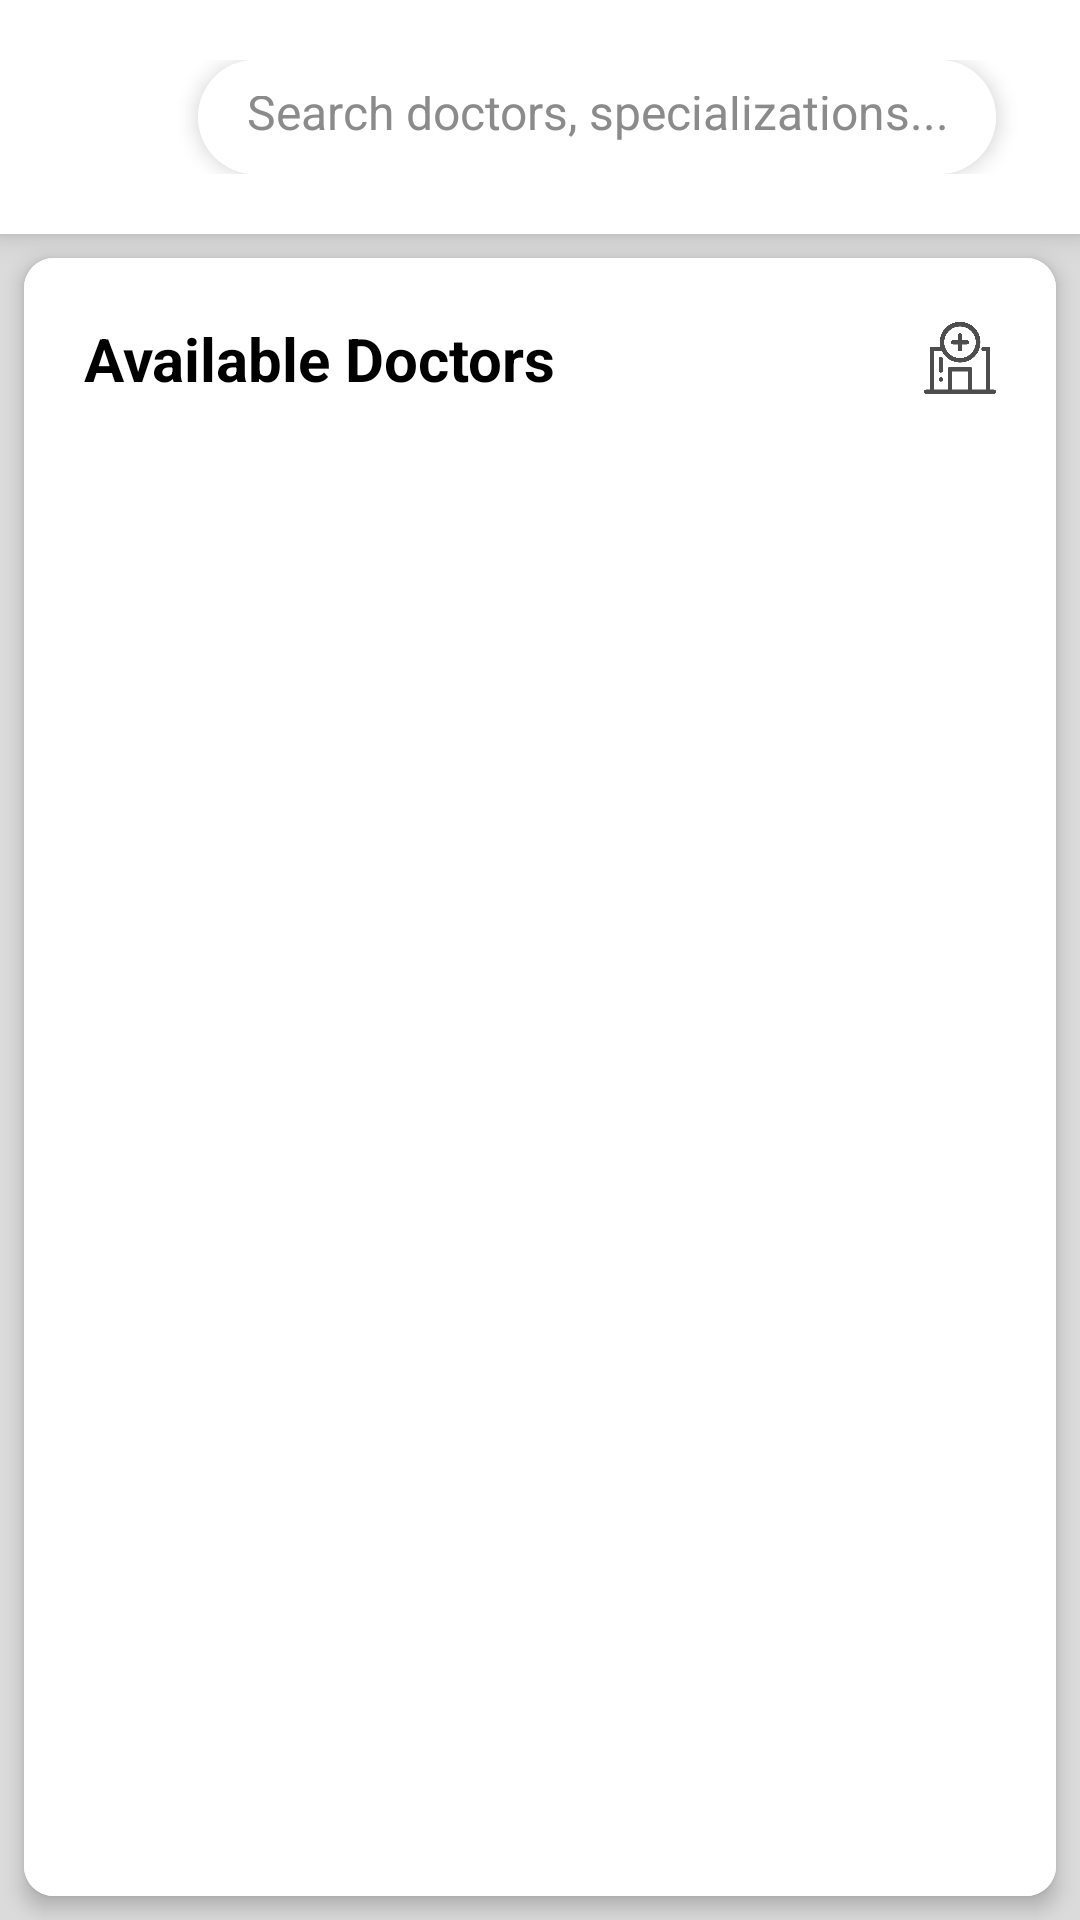

Where icons sit on this 1080*1920 app screen, as (x1, y1, x2, y2):
home hospital: (924, 322, 996, 394)
